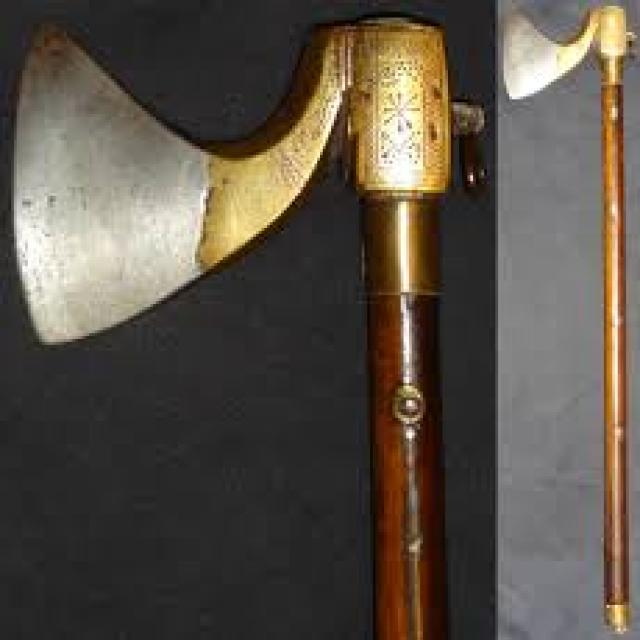Gun: (1, 5, 498, 640)
